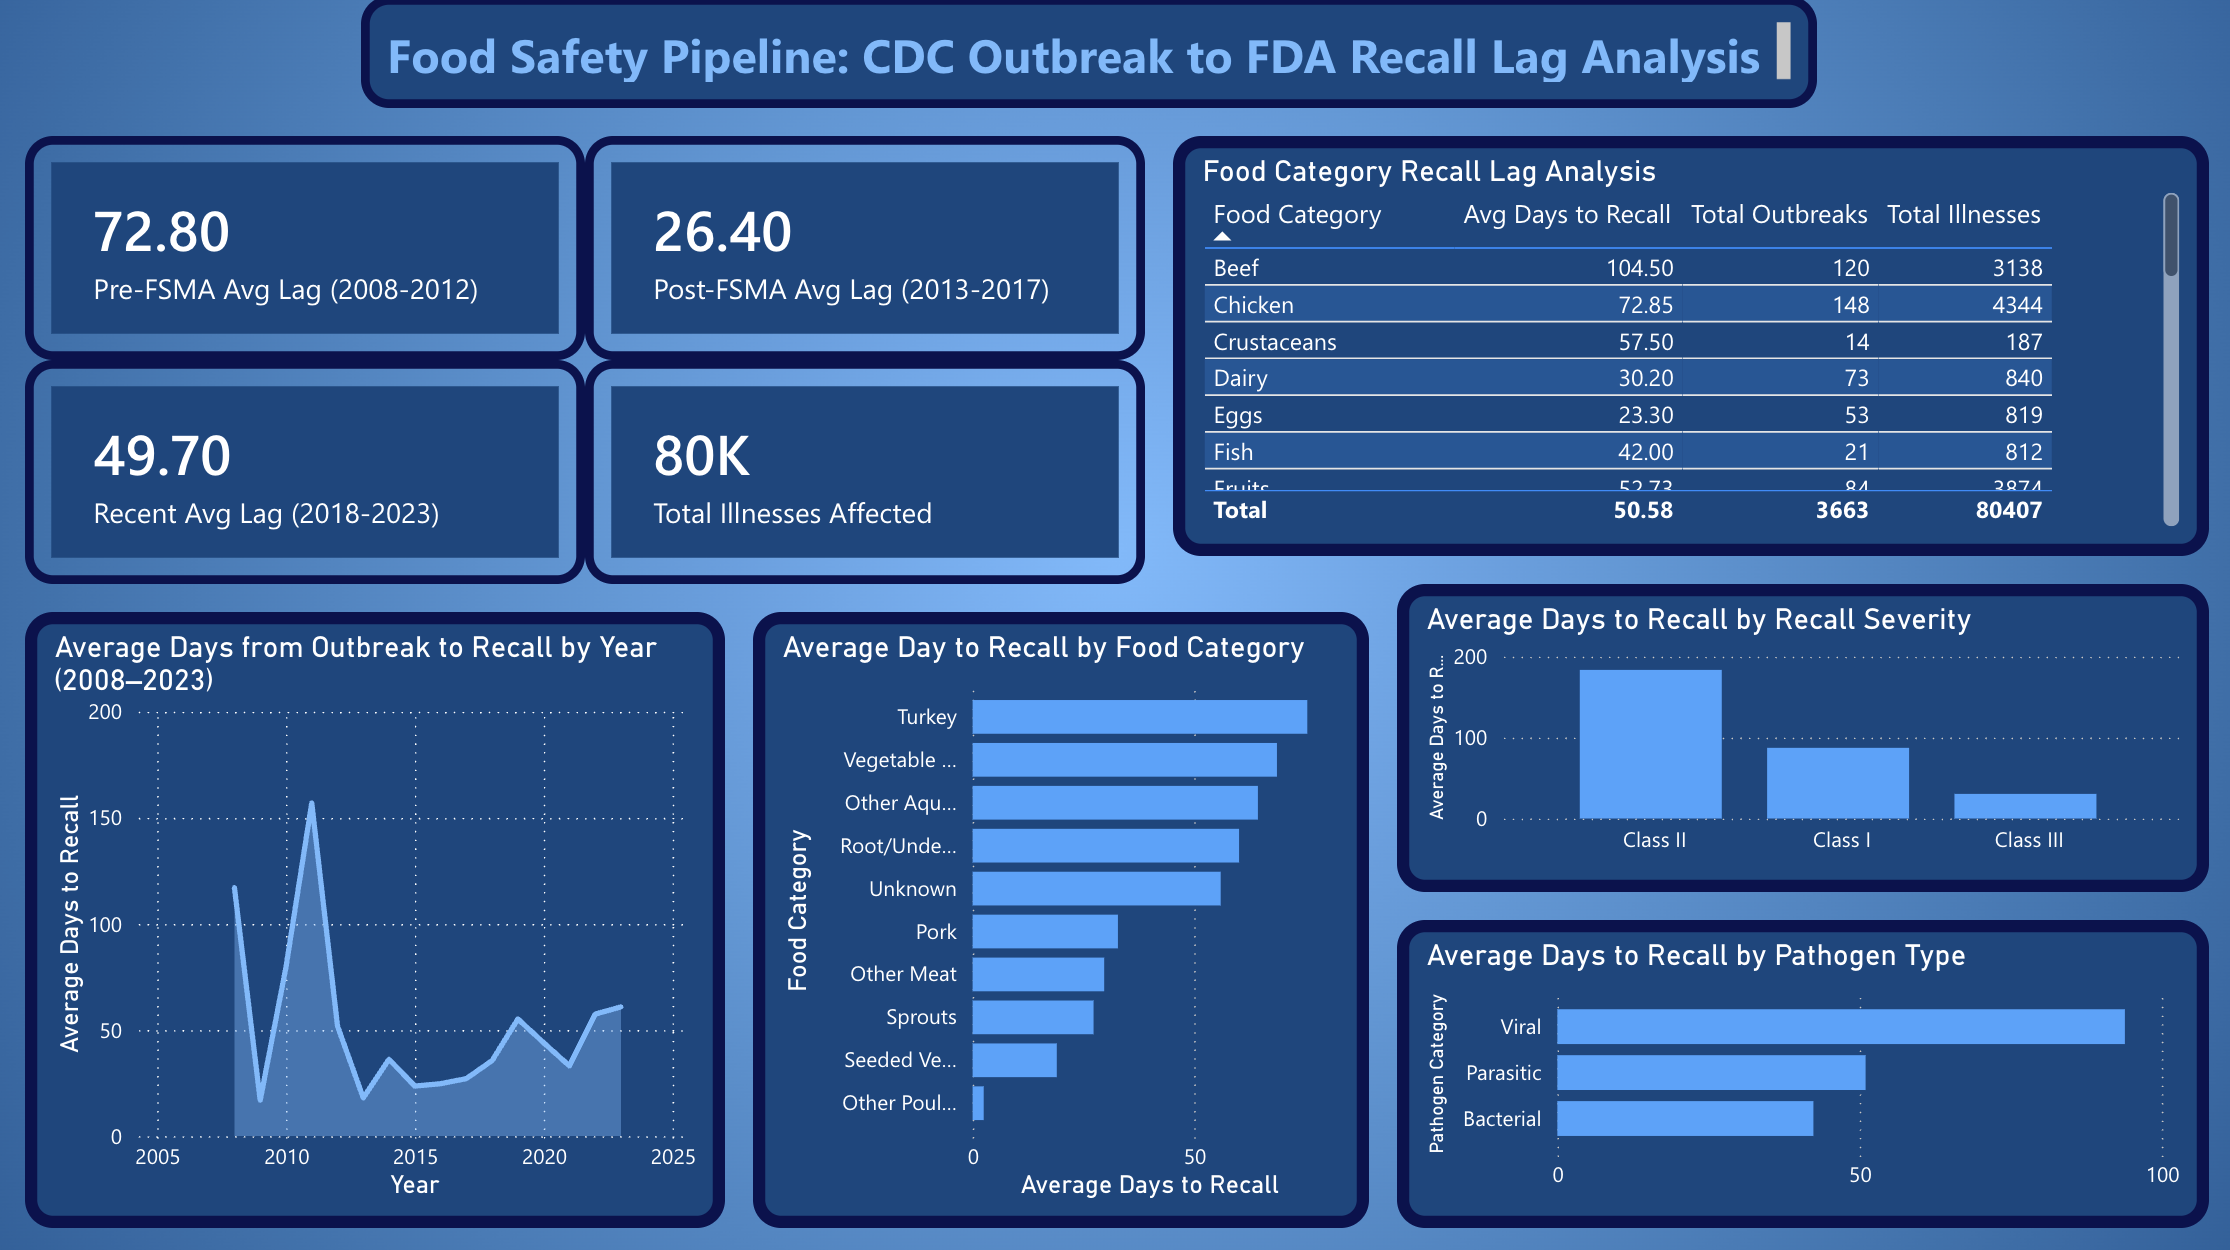

This screenshot's page, from the dashboard's own definition file:
{"tool":"powerbi","page":{"name":"Page 1","canvas":[1280,720],"ordinal":0},"visuals":[{"type":"textbox","box":[208,0,832,64],"z":0},{"type":"cardVisual","fields":{"Data":["Sum(Untitled_2026-07-22-1558.AVG_DAYS_TO_RECALL)"]},"box":[16,80,320,128],"z":2000},{"type":"cardVisual","fields":{"Data":["Sum(Untitled_2026-07-22-1558.AVG_DAYS_TO_RECALL)"]},"box":[336,80,320,128],"z":3000},{"type":"cardVisual","fields":{"Data":["Sum(Untitled_2026-07-22-1558.AVG_DAYS_TO_RECALL)"]},"box":[16,208,320,128],"z":4000},{"type":"cardVisual","fields":{"Data":["Sum(Untitled_2026-07-22-1558.TOTAL_ILLNESSES)"]},"box":[336,208,320,128],"z":5000},{"type":"lineChart","title":"Average Days from Outbreak to Recall by Year (2008–2023)","fields":{"Category":["Untitled_2026-07-08-1431 2.OUTBREAK_YEAR"],"Y":["Avg(Untitled_2026-07-08-1431 2.AVG_DAYS_TO_RECALL)"]},"box":[16,352,400,352],"z":6000},{"type":"clusteredBarChart","title":"Average Days to Recall by Pathogen Type","fields":{"Category":["Untitled_2026-07-08-1432.PATHOGEN_CATEGORY"],"Y":["Avg(Untitled_2026-07-08-1432.AVG_DAYS_TO_RECALL)"]},"box":[800,528,464,176],"z":7000},{"type":"clusteredBarChart","title":"Average Day to Recall by Food Category","fields":{"Category":["Untitled_2026-07-08-1432 (1).FOOD_CATEGORY"],"Y":["Avg(Untitled_2026-07-08-1432 (1).AVG_DAYS_TO_RECALL)"]},"box":[432,352,352,352],"z":8000},{"type":"tableEx","title":"Food Category Recall Lag Analysis","fields":{"Values":["Untitled_2026-07-08-1432 (1).FOOD_CATEGORY","Avg(Untitled_2026-07-08-1432 (1).AVG_DAYS_TO_RECALL)","Sum(Untitled_2026-07-08-1432 (1).MATCHED_OUTBREAKS)","Sum(Untitled_2026-07-08-1432 (1).TOTAL_ILLNESSES)"]},"box":[672,80,592,240],"z":9000},{"type":"clusteredColumnChart","title":"Average Days to Recall by Recall Severity","fields":{"Category":["Untitled_2026-07-08-1433.CLASSIFICATION"],"Y":["Sum(Untitled_2026-07-08-1433.AVG_DAYS_TO_RECALL)"]},"box":[800,336,464,176],"z":10000}]}

Visuals, with their boxes in screenshot pixels (x1, y1, x2, y2), scaled from the page's 1280x720 canvas onto the 2230x1250 screenshot:
textbox: {"x1": 362, "y1": 0, "x2": 1812, "y2": 111}
cardVisual - Sum(Untitled_2026-07-22-1558.AVG_DAYS_TO_RECALL): {"x1": 28, "y1": 139, "x2": 585, "y2": 361}
cardVisual - Sum(Untitled_2026-07-22-1558.AVG_DAYS_TO_RECALL): {"x1": 585, "y1": 139, "x2": 1143, "y2": 361}
cardVisual - Sum(Untitled_2026-07-22-1558.AVG_DAYS_TO_RECALL): {"x1": 28, "y1": 361, "x2": 585, "y2": 583}
cardVisual - Sum(Untitled_2026-07-22-1558.TOTAL_ILLNESSES): {"x1": 585, "y1": 361, "x2": 1143, "y2": 583}
"Average Days from Outbreak to Recall by Year (2008–2023)" lineChart: {"x1": 28, "y1": 611, "x2": 725, "y2": 1222}
"Average Days to Recall by Pathogen Type" clusteredBarChart: {"x1": 1394, "y1": 917, "x2": 2202, "y2": 1222}
"Average Day to Recall by Food Category" clusteredBarChart: {"x1": 753, "y1": 611, "x2": 1366, "y2": 1222}
"Food Category Recall Lag Analysis" tableEx: {"x1": 1171, "y1": 139, "x2": 2202, "y2": 556}
"Average Days to Recall by Recall Severity" clusteredColumnChart: {"x1": 1394, "y1": 583, "x2": 2202, "y2": 889}
